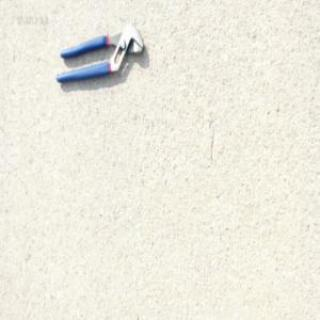Pliertrack_idkeyframe: (54, 22, 144, 84)
